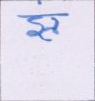anusvara: (37, 0, 44, 6)
